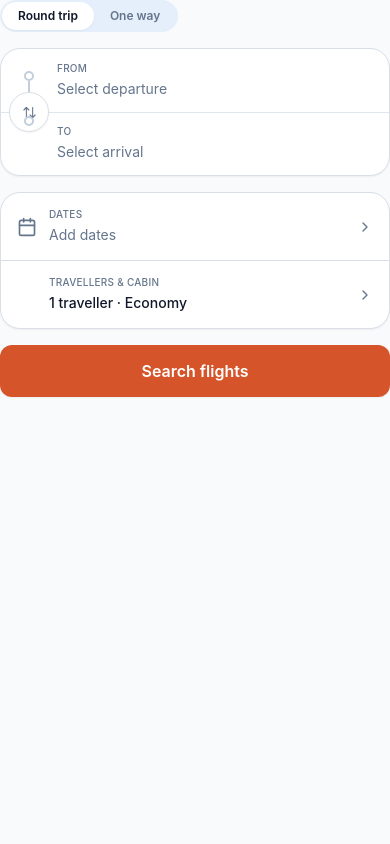
Test: MobileFlightSearch â€” cabin class (BF-0R-7 Round 1.2 item 6) › offers only Economy and Business, not Premium Economy or First
The image size is (390, 844).
Click the text "Travellers & Cabin".
click(104, 282)  # box [49,276,159,288]
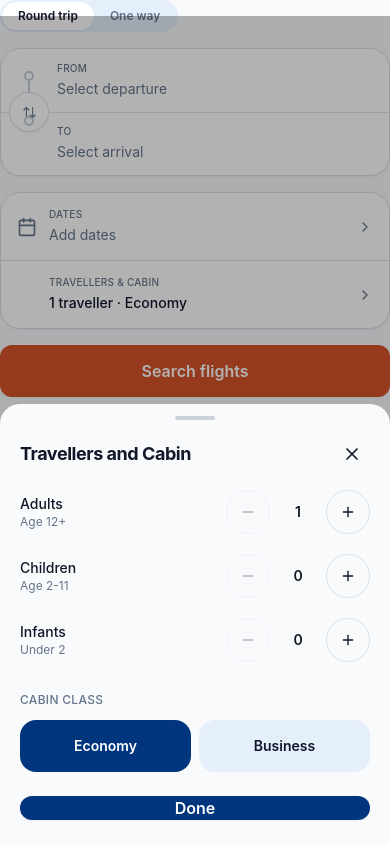
Result: the button "Economy" is shown at [20,720,191,772]
Result: the button "Business" is shown at [199,720,370,772]
